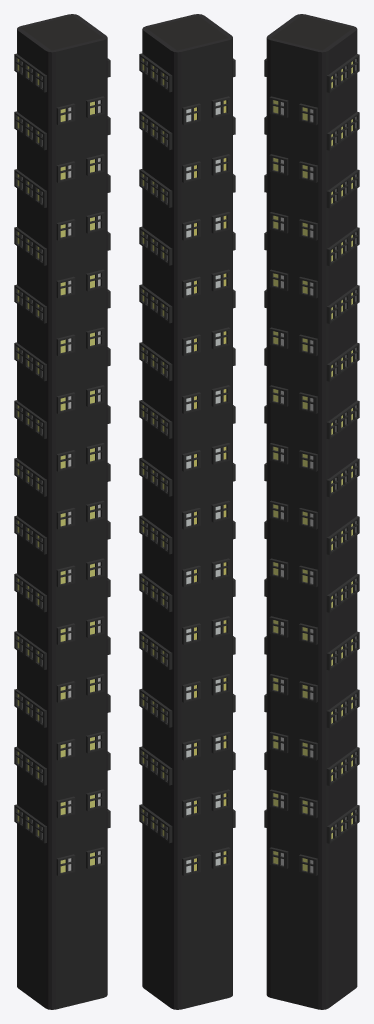
The model's file is Platform_Skyscraper2.fbx.
3 renders of one model, left to right at view 1: azimuth 30°, elevation 25°; view 2: azimuth 210°, elevation 25°; view 3: azimuth 330°, elevation 25°, orthographic.
Parts seen in each view (by area): view 1: Cube; view 2: Cube; view 3: Cube.
Boxes of the visible parts, x1=… form: Cube: x1=14, y1=14, x2=110, y2=1009; Cube: x1=139, y1=14, x2=235, y2=1009; Cube: x1=264, y1=14, x2=359, y2=1009.
Size of the model in its own units: 217 by 3000 by 218.
